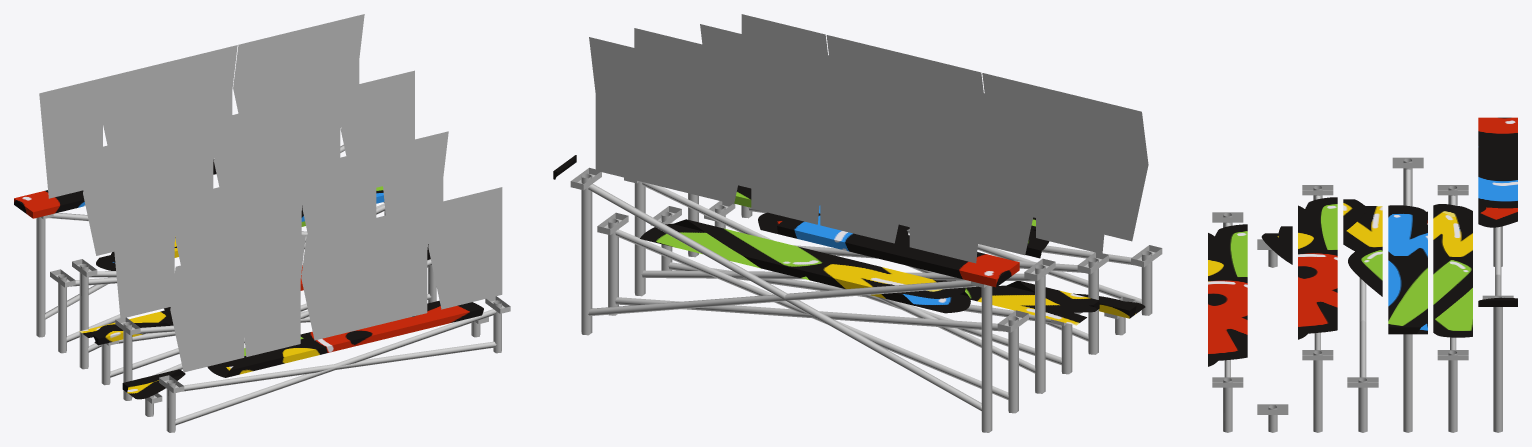
File: Bleachers.fbx
The picture shows the model from 3 angles, left to right: view 1: azimuth 30°, elevation 25°; view 2: azimuth 150°, elevation 25°; view 3: azimuth 270°, elevation 25°; orthographic projection. The views are drawn at different scales.
Visible parts, largest first — view 1: Bleachers, Person_01, Person_03, polySurface5, Person_04, Person_09, Person_19, Person_02, Person_14, Person_10, Person_06, Person_08 (+9 smaller); view 2: Bleachers, Person_16, Person_18, Person_19, Person_17, Person_09, Person_15, Person_14, polySurface5, Person_11, Person_13, Person_01 (+9 smaller); view 3: Bleachers.
Boxes of the visible parts, x1,y1,x2,y2 form: Bleachers: (14, 144, 510, 432); Person_01: (428, 187, 502, 309); Person_03: (301, 218, 375, 340); polySurface5: (170, 250, 244, 372); Person_04: (236, 235, 305, 356); Person_09: (111, 197, 179, 318); Person_19: (39, 76, 108, 198); Person_02: (370, 204, 432, 325); Person_14: (83, 133, 156, 255); Person_10: (341, 70, 414, 187); Person_06: (302, 149, 376, 234); Person_08: (175, 180, 249, 265); Bleachers: (553, 155, 1162, 432); Person_16: (659, 54, 750, 204); Person_18: (820, 94, 910, 243); Person_19: (903, 114, 987, 263); Person_17: (744, 75, 829, 224); Person_09: (1029, 104, 1114, 253); Person_15: (589, 37, 673, 186); Person_14: (952, 107, 1041, 255); polySurface5: (1058, 91, 1148, 241); Person_11: (719, 48, 804, 188); Person_13: (875, 87, 959, 226); Person_01: (741, 14, 827, 65); Bleachers: (1208, 117, 1517, 432).
Bounding box in the file's own units: 19.12 × 12.25 × 13.7.
